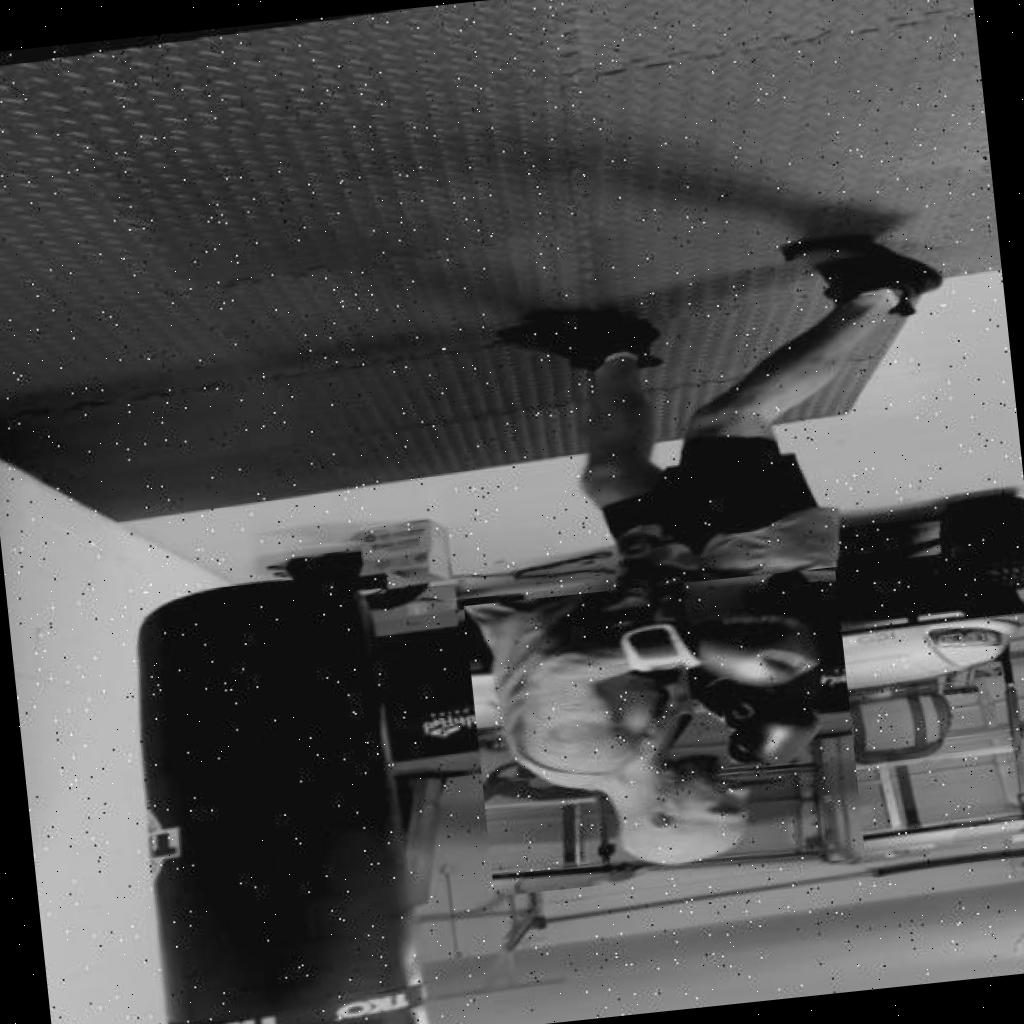bag: (118, 555, 441, 1024)
hook: (464, 567, 865, 896)
